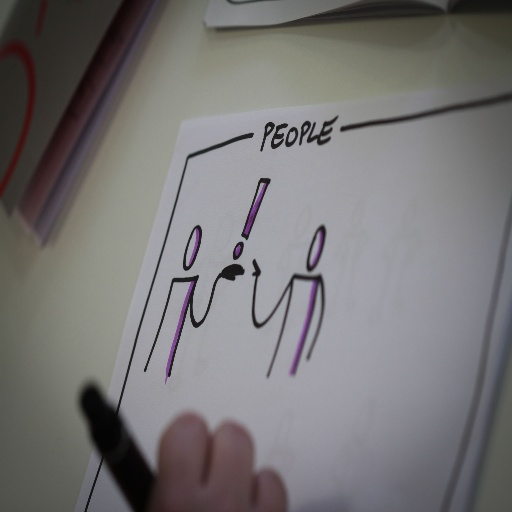hand: (74, 381, 301, 512), (220, 262, 245, 281), (251, 257, 260, 279)
